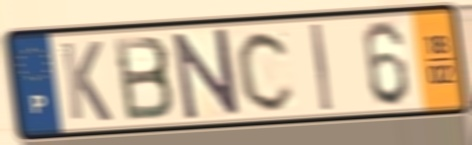6: (360, 16, 412, 111)
B: (110, 33, 178, 125)
C: (234, 27, 298, 114)
I: (307, 21, 335, 114)
K: (57, 39, 114, 124)
N: (170, 25, 243, 124)
